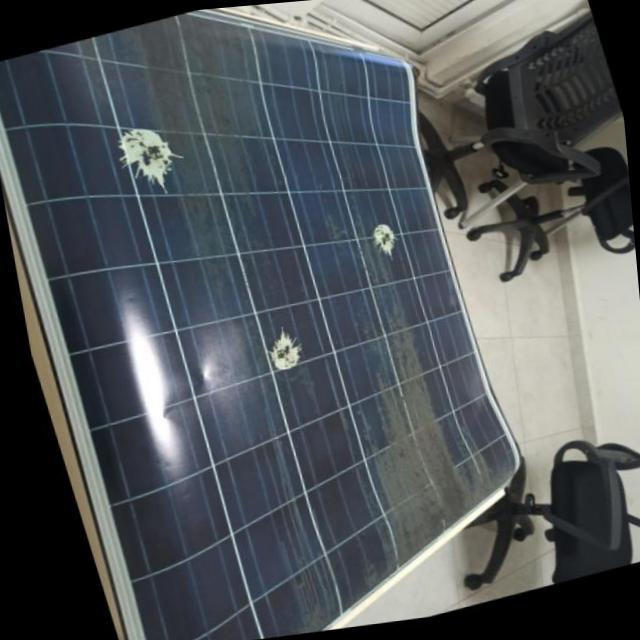faulty: (0, 18, 535, 640)
